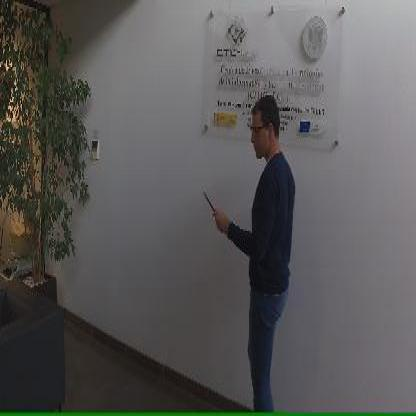knife: (200, 183, 219, 219)
